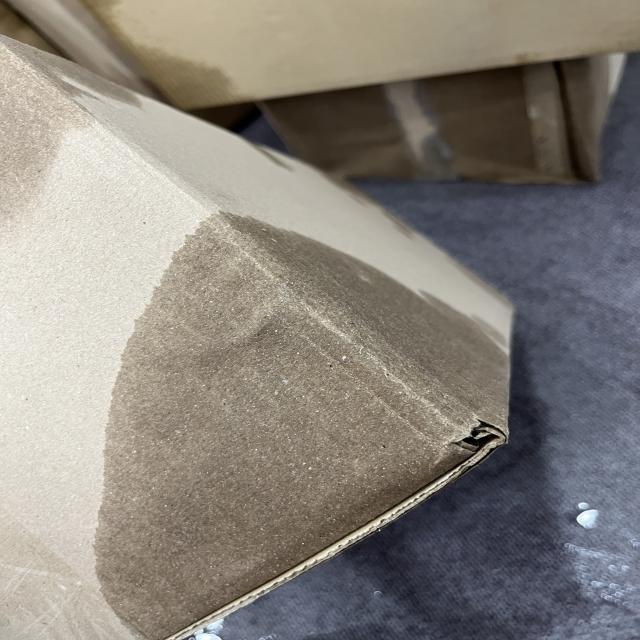wet: (77, 208, 539, 608)
